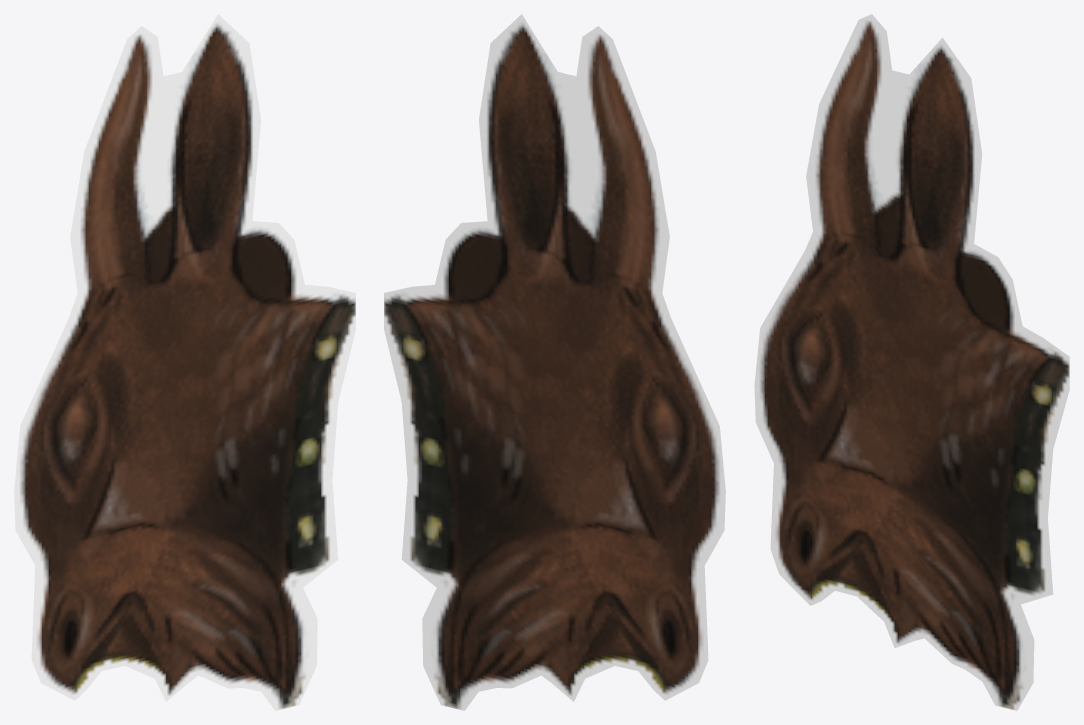
3 views of the same model, side by side, from view 1: azimuth 30°, elevation 25°; view 2: azimuth 150°, elevation 25°; view 3: azimuth 330°, elevation 25° (orthographic). The views are drawn at different scales.
Visible parts, largest first — view 1: Plane; view 2: Plane; view 3: Plane.
Part boxes in pixels (bbox=[...]): Plane: bbox=[14, 14, 355, 710]; Plane: bbox=[384, 14, 725, 710]; Plane: bbox=[754, 14, 1069, 710].
Size of the model in its own units: 2.04 by 4.09 by 0.
Materials: 1 (1 with a texture image).
